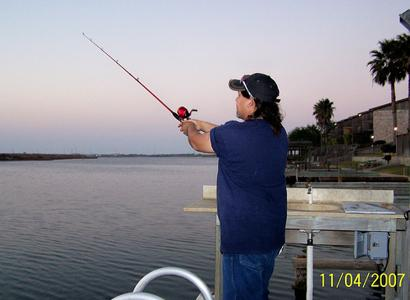person: (176, 73, 289, 300)
